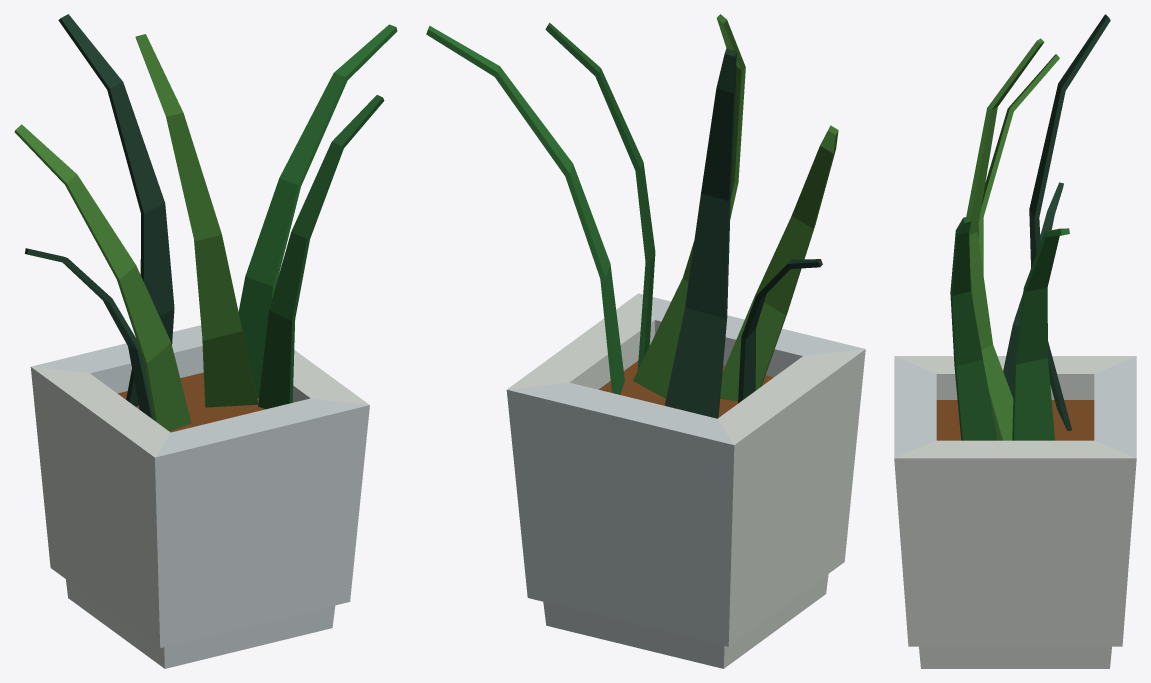
The model's file is Puzzle03_Plant2.glb.
3 renders of one model, left to right at view 1: azimuth 30°, elevation 25°; view 2: azimuth 150°, elevation 25°; view 3: azimuth 270°, elevation 25°, orthographic. The views are drawn at different scales.
Parts seen in each view (by area): view 1: Puzzle03_Plant2; view 2: Puzzle03_Plant2; view 3: Puzzle03_Plant2.
Boxes of the visible parts, x1=… form: Puzzle03_Plant2: x1=14, y1=14, x2=397, y2=668; Puzzle03_Plant2: x1=426, y1=14, x2=865, y2=668; Puzzle03_Plant2: x1=894, y1=14, x2=1136, y2=668.
Bounding box in the file's own units: 1.3 × 1.89 × 0.7267.
Materials: 1 (1 with a texture image).
